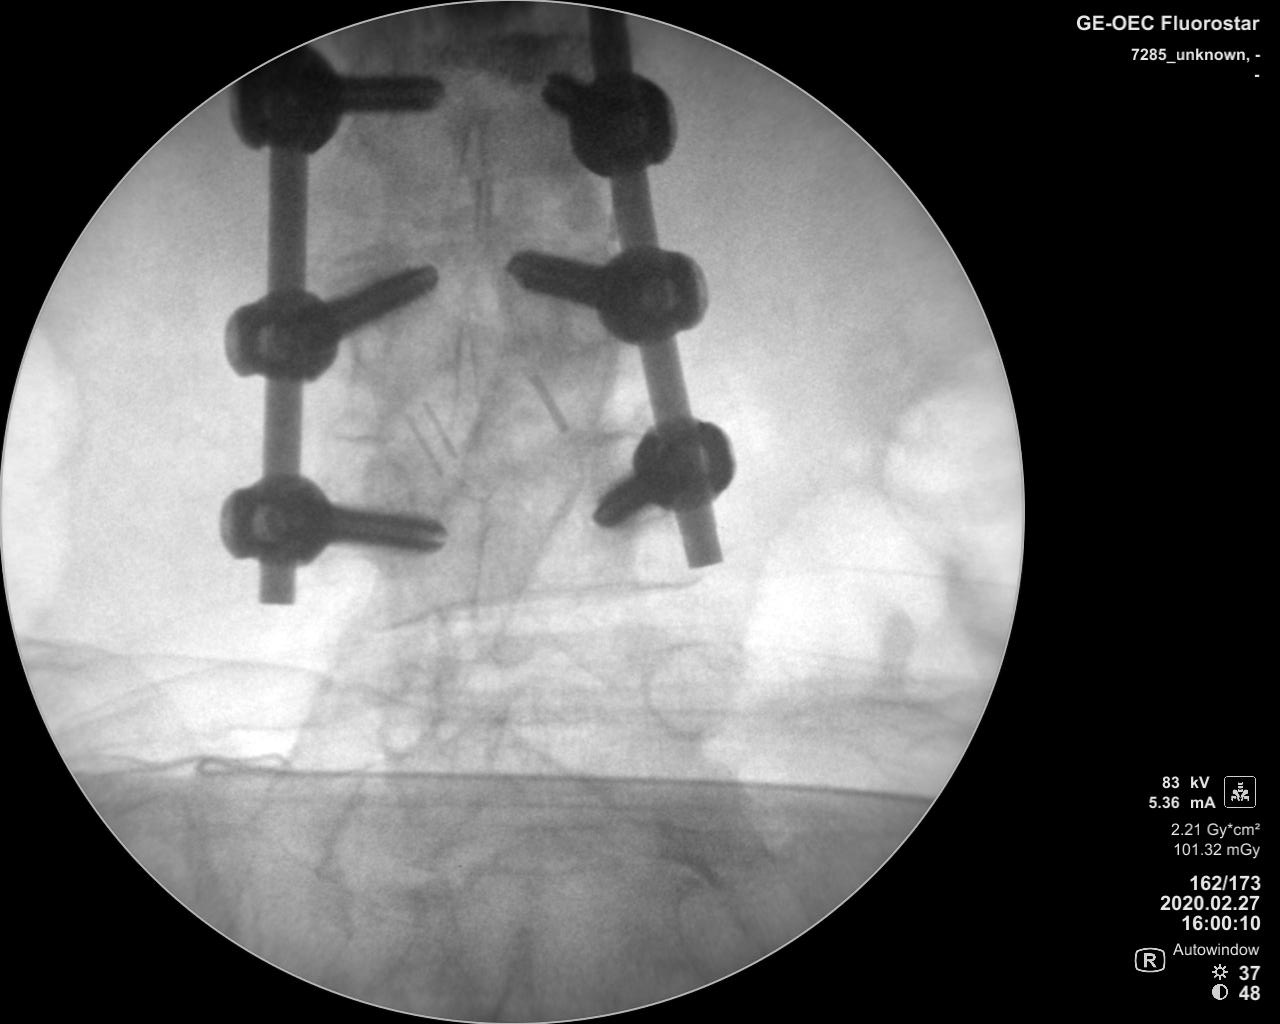eyes: (638, 637, 728, 740), (598, 430, 667, 518), (378, 667, 440, 758), (349, 298, 389, 371), (560, 295, 605, 353)
line: (366, 571, 701, 630)
nose: (446, 115, 492, 261), (470, 522, 517, 650), (444, 313, 487, 452)
